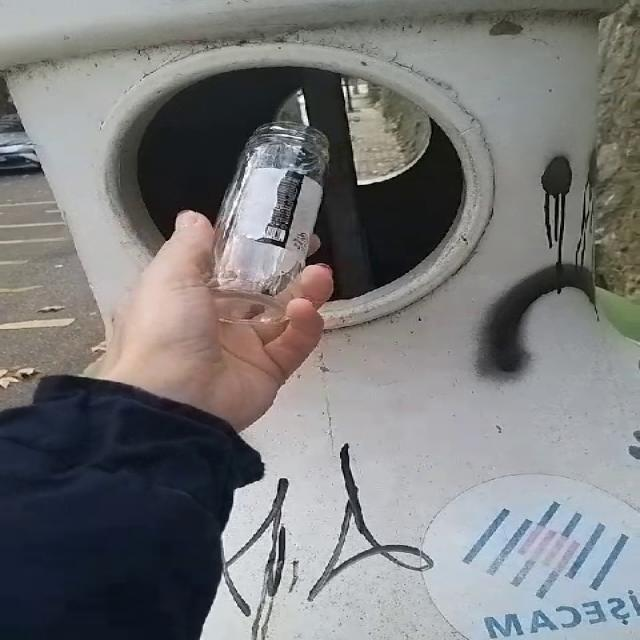glass: (211, 121, 329, 325)
